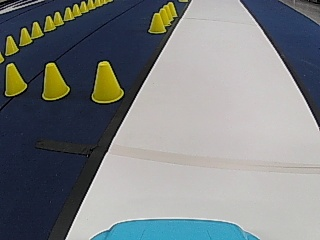cone: (92, 61, 123, 104), (42, 63, 70, 100), (4, 63, 27, 96), (147, 12, 166, 34), (5, 35, 18, 56), (19, 27, 32, 45), (157, 9, 170, 26), (165, 2, 178, 17), (31, 22, 43, 38), (160, 5, 172, 21), (44, 16, 56, 31), (53, 12, 63, 26), (64, 7, 74, 21), (73, 4, 82, 16), (80, 0, 88, 13)
